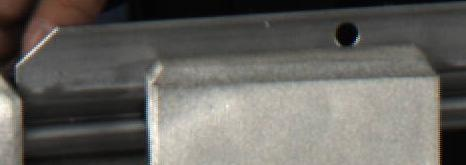cut: (13, 21, 139, 158)
holes: (333, 19, 361, 47)
